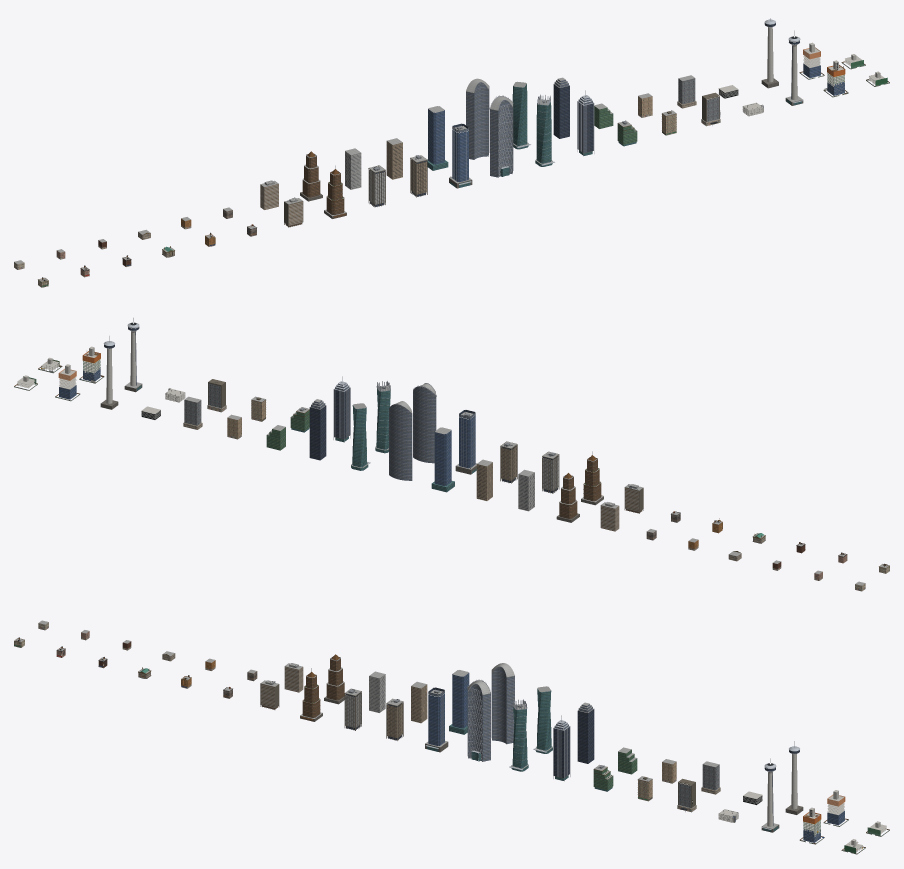
Rendered from downtown.glb.
3 views of the same model, one above another, from view 1: azimuth 30°, elevation 25°; view 2: azimuth 150°, elevation 25°; view 3: azimuth 330°, elevation 25° (orthographic).
Parts seen in each view (by area): view 1: DT_crescent_mesh, DT_crescent_lod_mesh, DT_glass_tower_mesh, DT_twist_mesh, DT_glass_tower_lod_mesh, DT_crown_mesh, DT_twist_lod_mesh, DT_crown_lod_mesh, DT_setback_mesh, DT_setback_lod_mesh, DT_ribbed_warm_mesh, DT_ribbed_mesh (+8 smaller); view 2: DT_crescent_lod_mesh, DT_crescent_mesh, DT_glass_tower_lod_mesh, DT_glass_tower_mesh, DT_crown_lod_mesh, DT_crown_mesh, DT_twist_lod_mesh, DT_twist_mesh, DT_setback_mesh, DT_setback_lod_mesh, DT_ribbed_warm_mesh, DT_ribbed_mesh (+8 smaller); view 3: DT_crescent_mesh, DT_crescent_lod_mesh, DT_glass_tower_mesh, DT_glass_tower_lod_mesh, DT_crown_lod_mesh, DT_crown_mesh, DT_twist_mesh, DT_twist_lod_mesh, DT_setback_mesh, DT_setback_lod_mesh, DT_ribbed_warm_mesh, DT_ribbed_mesh (+10 smaller).
Part boxes in pixels (bbox=[...]): DT_crescent_mesh: bbox=[489, 95, 513, 177]; DT_crescent_lod_mesh: bbox=[466, 78, 489, 159]; DT_glass_tower_mesh: bbox=[449, 123, 472, 188]; DT_twist_mesh: bbox=[535, 94, 554, 166]; DT_glass_tower_lod_mesh: bbox=[427, 106, 448, 170]; DT_crown_mesh: bbox=[577, 90, 594, 156]; DT_twist_lod_mesh: bbox=[512, 81, 530, 149]; DT_crown_lod_mesh: bbox=[553, 77, 569, 138]; DT_setback_mesh: bbox=[324, 165, 346, 218]; DT_setback_lod_mesh: bbox=[300, 151, 322, 201]; DT_ribbed_warm_mesh: bbox=[410, 155, 427, 197]; DT_ribbed_mesh: bbox=[368, 165, 385, 207]; DT_crescent_lod_mesh: bbox=[389, 401, 412, 480]; DT_crescent_mesh: bbox=[413, 383, 436, 463]; DT_glass_tower_lod_mesh: bbox=[431, 427, 454, 492]; DT_glass_tower_mesh: bbox=[455, 410, 476, 474]; DT_crown_lod_mesh: bbox=[309, 399, 326, 460]; DT_crown_mesh: bbox=[333, 376, 350, 442]; DT_twist_lod_mesh: bbox=[351, 403, 370, 470]; DT_twist_mesh: bbox=[375, 380, 390, 453]; DT_setback_mesh: bbox=[581, 451, 603, 505]; DT_setback_lod_mesh: bbox=[556, 473, 579, 522]; DT_ribbed_warm_mesh: bbox=[500, 441, 517, 483]; DT_ribbed_mesh: bbox=[542, 451, 559, 493]; DT_crescent_mesh: bbox=[467, 679, 490, 761]; DT_crescent_lod_mesh: bbox=[491, 663, 514, 744]; DT_glass_tower_mesh: bbox=[425, 687, 448, 752]; DT_glass_tower_lod_mesh: bbox=[449, 670, 469, 734]; DT_crown_lod_mesh: bbox=[577, 702, 594, 763]; DT_crown_mesh: bbox=[553, 715, 570, 781]; DT_twist_mesh: bbox=[509, 699, 528, 771]; DT_twist_lod_mesh: bbox=[533, 686, 552, 753]; DT_setback_mesh: bbox=[300, 668, 322, 721]; DT_setback_lod_mesh: bbox=[324, 654, 344, 704]; DT_ribbed_warm_mesh: bbox=[386, 698, 403, 740]; DT_ribbed_mesh: bbox=[344, 688, 361, 730].
Size of the model in its own units: 2433 by 210 by 168.
38 materials, 31 textured.
